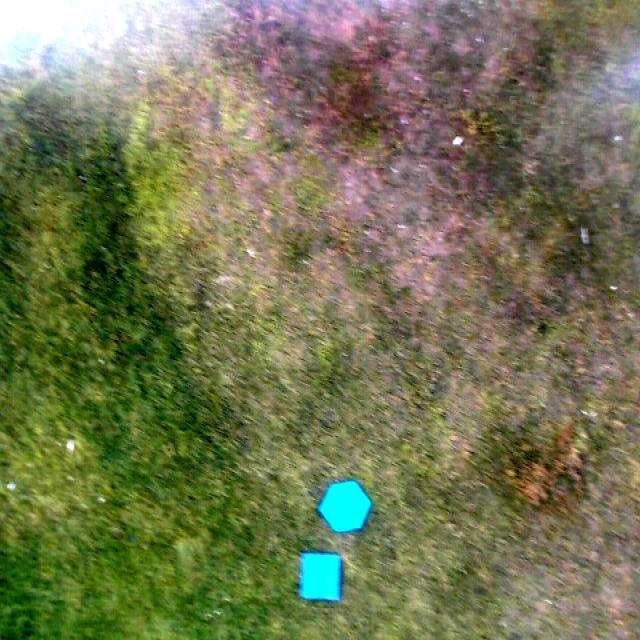blue_hexagon: (320, 482, 372, 534)
blue_square: (302, 553, 342, 599)
